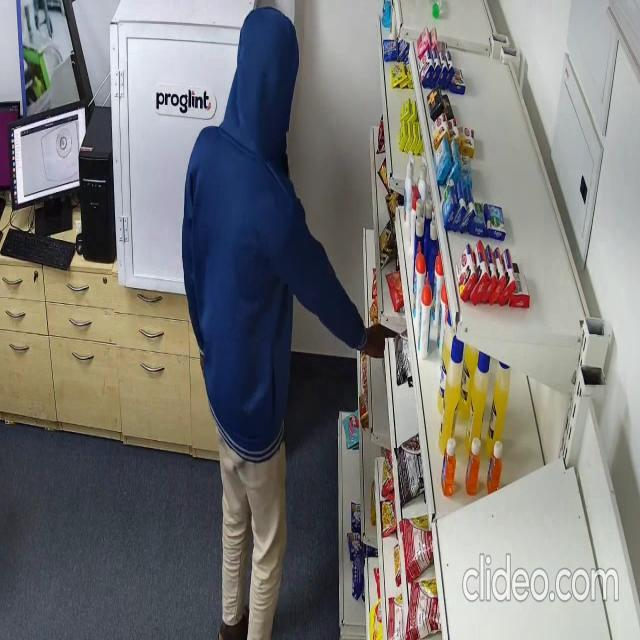normal: (182, 3, 387, 640)
